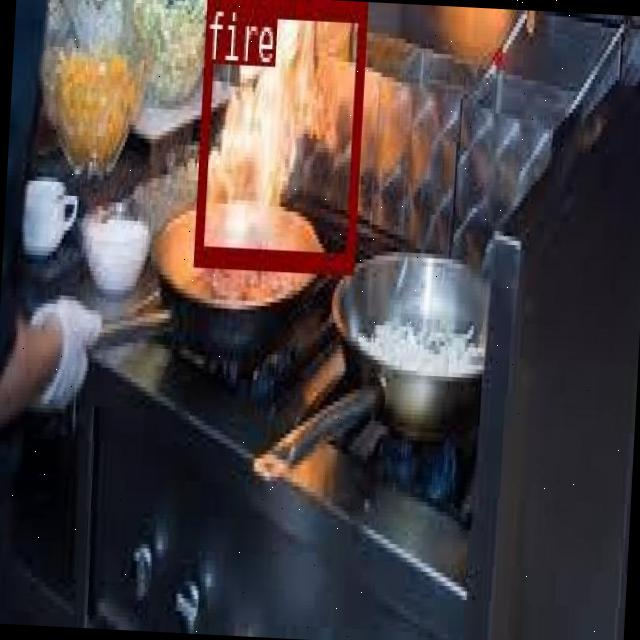fire: (193, 0, 366, 267)
